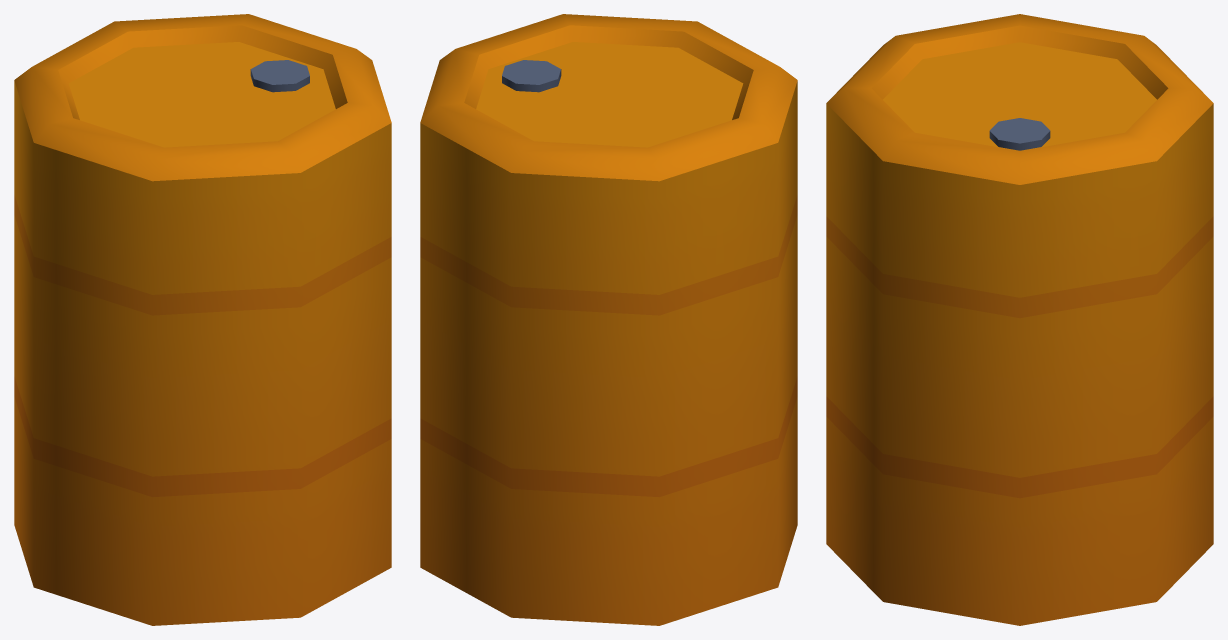
Rendered from Barrel 01.FBX.
3 renders of one model, left to right at view 1: azimuth 30°, elevation 25°; view 2: azimuth 150°, elevation 25°; view 3: azimuth 270°, elevation 25°, orthographic.
Parts seen in each view (by area): view 1: Barrel 01; view 2: Barrel 01; view 3: Barrel 01.
Part boxes in pixels (x1,y1,x2,y2): Barrel 01: [14, 14, 391, 625]; Barrel 01: [420, 14, 797, 625]; Barrel 01: [826, 14, 1213, 625].
Bounding box in the file's own units: 88.14 × 114 × 88.14.
1 material, 1 textured.
